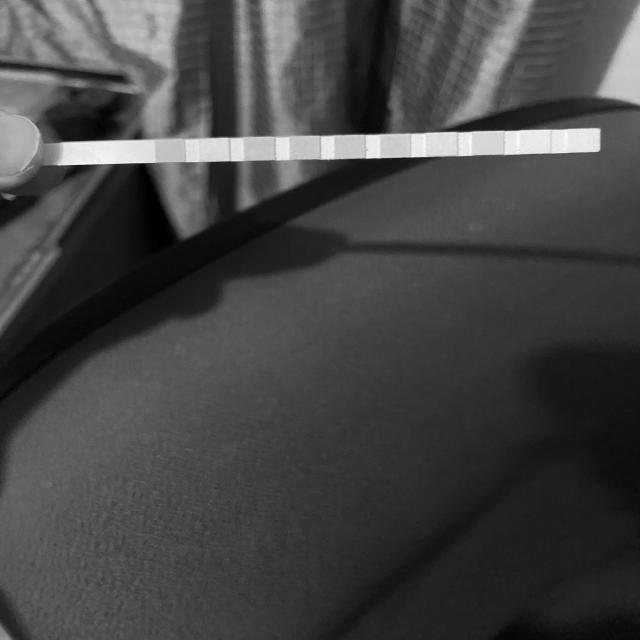Bilirubin: (202, 140, 228, 160)
Blood: (337, 137, 364, 158)
Glucose: (157, 141, 184, 161)
Ketone: (246, 140, 273, 160)
Leukocytes: (569, 130, 598, 151)
Nitrite: (521, 130, 549, 152)
Protein: (428, 134, 456, 156)
SpGravity: (291, 138, 318, 159)
Urobilinogen: (474, 133, 502, 154)
background: (0, 0, 640, 640)
pH: (383, 136, 409, 157)
strip: (47, 129, 601, 167)
